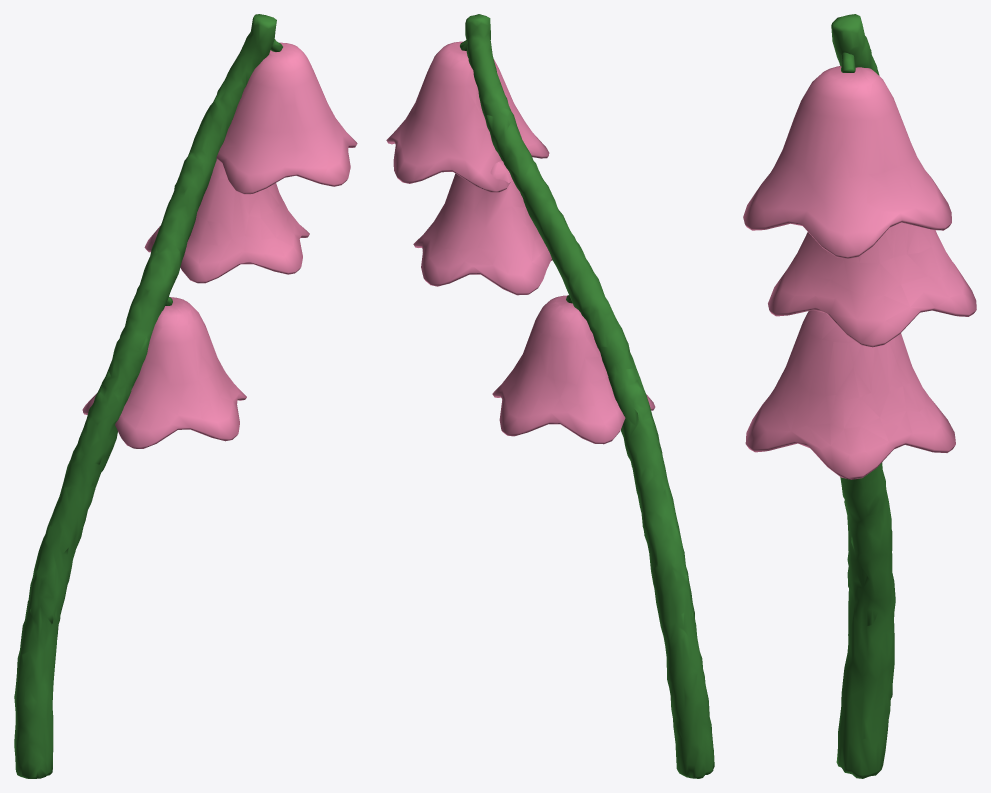
The model's file is glade_flower_bell.glb.
3 renders of one model, left to right at view 1: azimuth 30°, elevation 25°; view 2: azimuth 150°, elevation 25°; view 3: azimuth 270°, elevation 25°, orthographic. The views are drawn at different scales.
Parts seen in each view (by area): view 1: glade_flower_bell; view 2: glade_flower_bell; view 3: glade_flower_bell.
Boxes of the visible parts, bbox=[...] form: glade_flower_bell: bbox=[14, 14, 357, 778]; glade_flower_bell: bbox=[386, 14, 714, 778]; glade_flower_bell: bbox=[743, 14, 976, 778].
Size of the model in its own units: 7.86 by 15.99 by 3.81.
